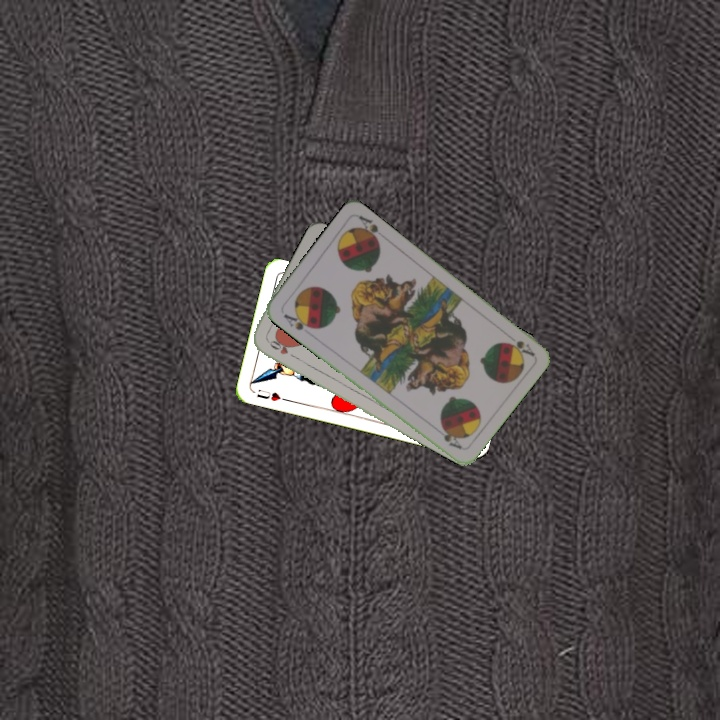HO: (263, 336, 300, 362)
HU: (252, 385, 290, 404)
SA: (501, 329, 537, 359), (279, 309, 317, 333)
